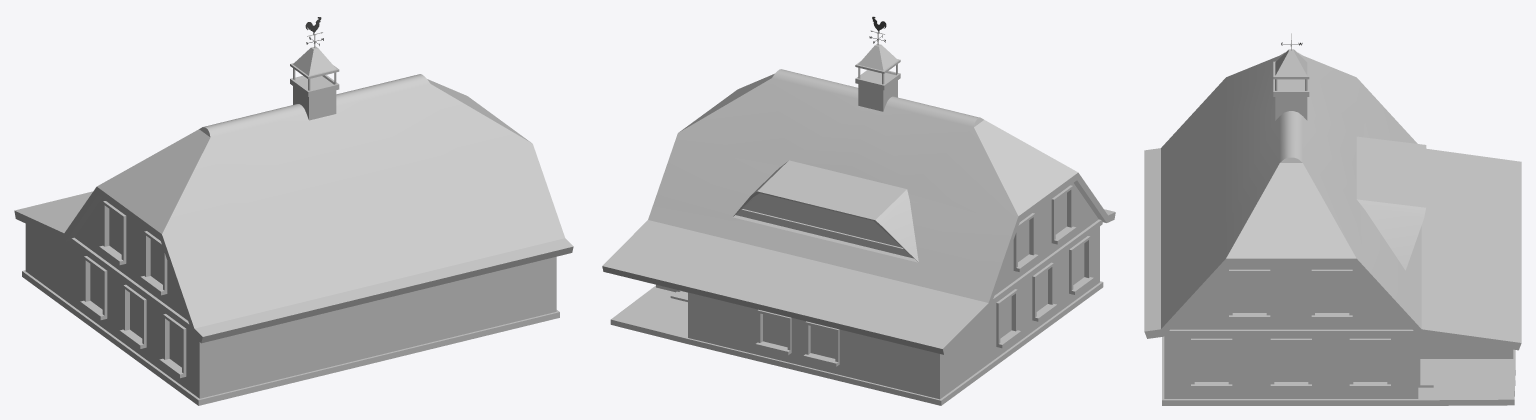
Rendered from farming huis.fbx.
3 renders of one model, left to right at view 1: azimuth 30°, elevation 25°; view 2: azimuth 150°, elevation 25°; view 3: azimuth 270°, elevation 25°, orthographic. The views are drawn at different scales.
Visible parts, largest first — view 1: huis; view 2: huis; view 3: huis.
Boxes of the visible parts, x1,y1,x2,y2 form: huis: (14, 17, 573, 405); huis: (602, 16, 1115, 405); huis: (1144, 33, 1521, 405).
Bounding box in the file's own units: 13.52 × 10.38 × 11.89.
